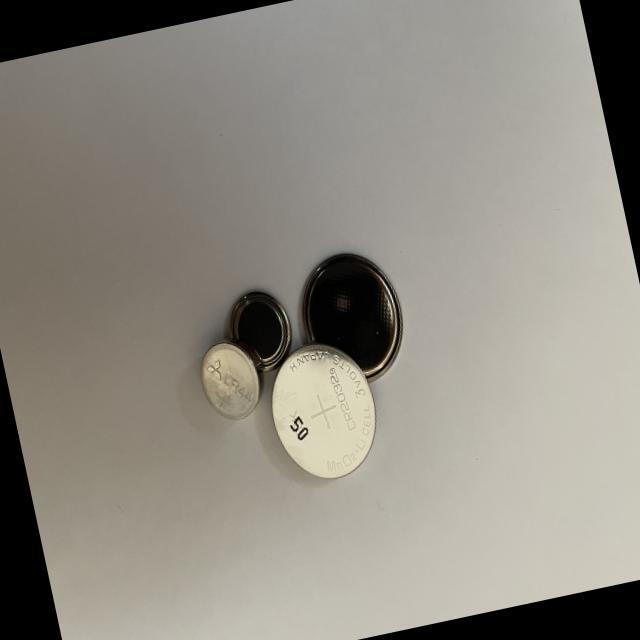COIN: (256, 334, 388, 491), (286, 239, 417, 397), (188, 331, 272, 428), (220, 280, 298, 380)
